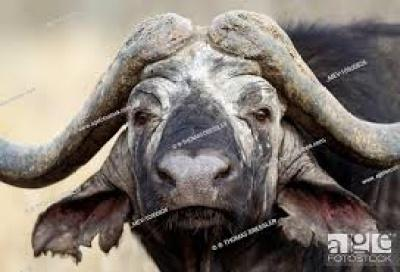buffalo: (0, 10, 396, 272)
